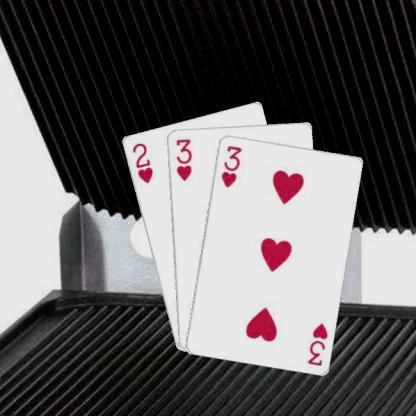2H: (130, 140, 154, 184)
3H: (218, 143, 243, 189), (305, 320, 329, 367), (174, 136, 192, 181)
